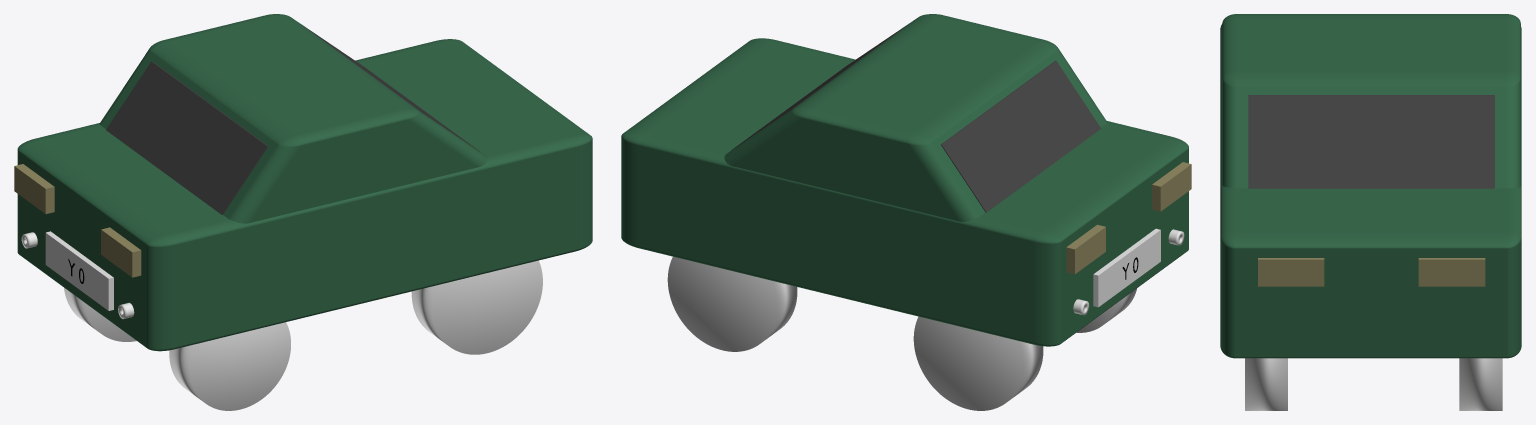
Rendered from car-export.fbx.
3 renders of one model, left to right at view 1: azimuth 30°, elevation 25°; view 2: azimuth 150°, elevation 25°; view 3: azimuth 270°, elevation 25°, orthographic. The views are drawn at different scales.
Parts seen in each view (by area): view 1: Cube.001, Cube, Cube.002, Cylinder.003, Cylinder.000, Cube.006, Cube.005, Cube.004, Cylinder.001, Cube.003; view 2: Cube.001, Cube, Cube.002, Cylinder.002, Cylinder.001, Cube.006, Cube.005, Cube.004, Cylinder.000, Cube.003; view 3: Cube.001, Cube, Cube.003, Cylinder.002, Cylinder.003, Cube.008, Cube.007.
Part boxes in pixels (<box>): Cube.001: <box>17,39,592,351</box>; Cube: <box>99,14,487,223</box>; Cube.002: <box>106,61,268,214</box>; Cylinder.003: <box>411,260,542,354</box>; Cylinder.000: <box>169,322,290,410</box>; Cube.006: <box>45,231,113,310</box>; Cube.005: <box>101,227,141,277</box>; Cube.004: <box>14,164,54,213</box>; Cylinder.001: <box>64,288,136,341</box>; Cube.003: <box>302,25,479,151</box>; Cube.001: <box>621,38,1188,346</box>; Cube: <box>724,14,1107,221</box>; Cube.002: <box>941,60,1100,212</box>; Cylinder.002: <box>667,256,797,351</box>; Cylinder.001: <box>913,316,1043,410</box>; Cube.006: <box>1093,228,1160,307</box>; Cube.005: <box>1152,162,1191,211</box>; Cube.004: <box>1066,224,1105,274</box>; Cylinder.000: <box>1076,288,1136,332</box>; Cube.003: <box>731,25,906,150</box>; Cube.001: <box>1220,24,1521,358</box>; Cube: <box>1222,14,1520,188</box>; Cube.003: <box>1248,95,1494,188</box>; Cylinder.002: <box>1459,358,1502,410</box>; Cylinder.003: <box>1245,358,1287,410</box>; Cube.008: <box>1418,258,1485,286</box>; Cube.007: <box>1258,258,1324,286</box>.
Size of the model in its own units: 3.88 by 2.18 by 2.09.
